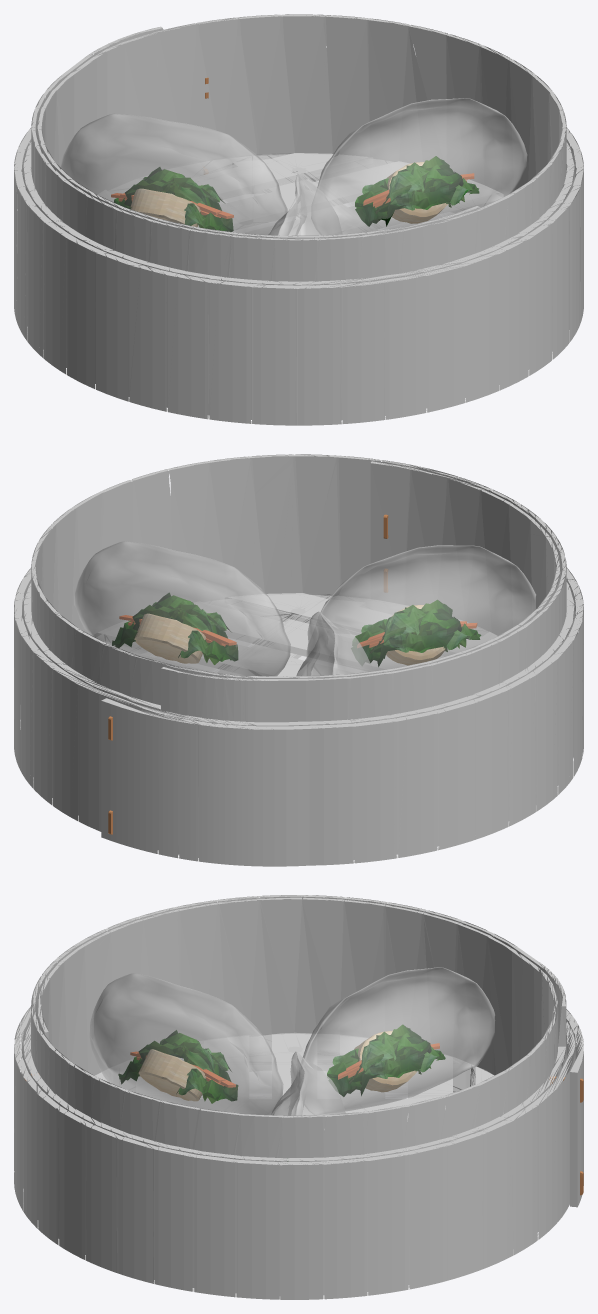
The model's file is Dumpling.fbx.
The picture shows the model from 3 angles, top to bottom: view 1: azimuth 30°, elevation 25°; view 2: azimuth 150°, elevation 25°; view 3: azimuth 270°, elevation 25°; orthographic projection.
Visible parts, largest first — view 1: Object.1, Mball.001, Mball.002, Object.002, Mball.003, Plane.004, Cylinder.001, Plane.002, Plane.005, Plane, Plane.001, Cylinder; view 2: Object.1, Mball.001, Mball.003, Object.002, Mball.002, Cylinder, Plane.011, Plane.009, Plane.002, Plane, Plane.008, Cylinder.002; view 3: Object.1, Mball.002, Mball.003, Object.002, Mball.001, Cylinder.002, Plane.007, Plane.005, Plane.009, Plane.008, Plane.001, Cylinder.001.
Boxes of the visible parts, x1,y1,x2,y2 form: Object.1: [14, 14, 583, 425]; Mball.001: [311, 98, 527, 234]; Mball.002: [60, 113, 287, 235]; Object.002: [100, 154, 500, 235]; Mball.003: [268, 173, 342, 236]; Plane.004: [383, 164, 460, 210]; Cylinder.001: [130, 188, 200, 226]; Plane.002: [375, 156, 463, 214]; Plane.005: [124, 169, 208, 206]; Plane: [355, 178, 405, 226]; Plane.001: [184, 197, 233, 231]; Cylinder: [387, 162, 447, 223]; Object.1: [14, 454, 583, 866]; Mball.001: [74, 541, 290, 676]; Mball.003: [309, 545, 535, 674]; Object.002: [97, 594, 496, 676]; Mball.002: [296, 611, 373, 676]; Cylinder: [134, 613, 205, 663]; Plane.011: [376, 608, 458, 652]; Plane.009: [370, 600, 461, 654]; Plane.002: [132, 595, 213, 632]; Plane: [178, 625, 238, 664]; Plane.008: [351, 619, 399, 666]; Cylinder.002: [386, 605, 445, 665]; Object.1: [14, 895, 583, 1299]; Mball.002: [299, 967, 494, 1114]; Mball.003: [89, 973, 283, 1114]; Object.002: [95, 1033, 493, 1121]; Mball.001: [271, 1051, 345, 1129]; Cylinder.002: [138, 1049, 206, 1101]; Plane.007: [358, 1032, 429, 1078]; Plane.005: [348, 1024, 431, 1084]; Plane.009: [138, 1033, 224, 1090]; Plane.008: [176, 1064, 238, 1103]; Plane.001: [327, 1048, 379, 1096]; Cylinder.001: [354, 1030, 416, 1092].
Bounding box in the file's own units: 213 × 73.22 × 216.
